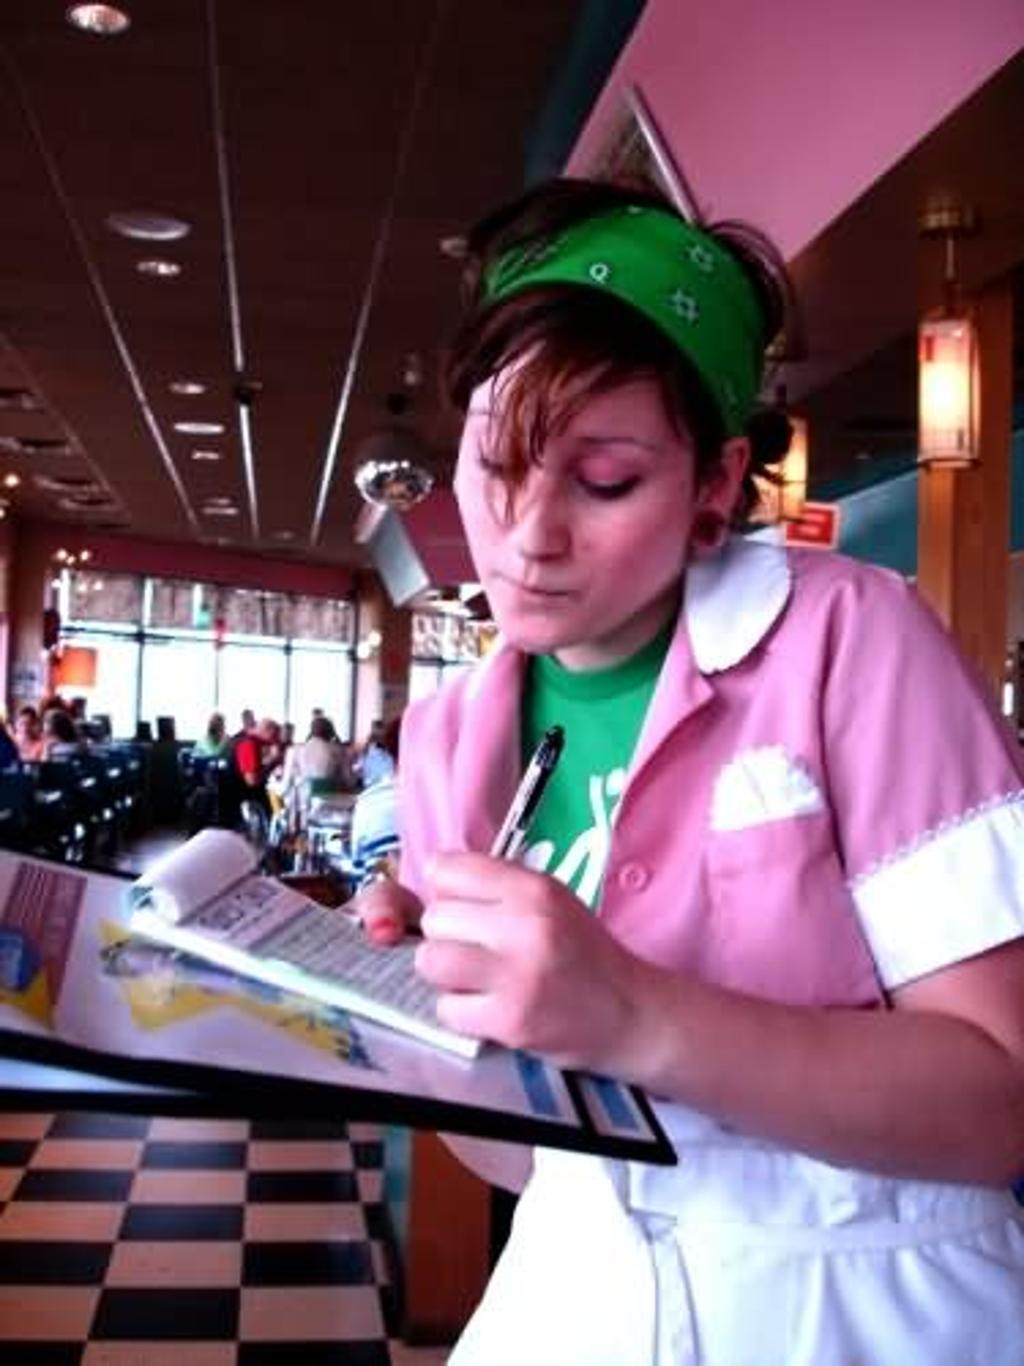face: (453, 333, 696, 653)
